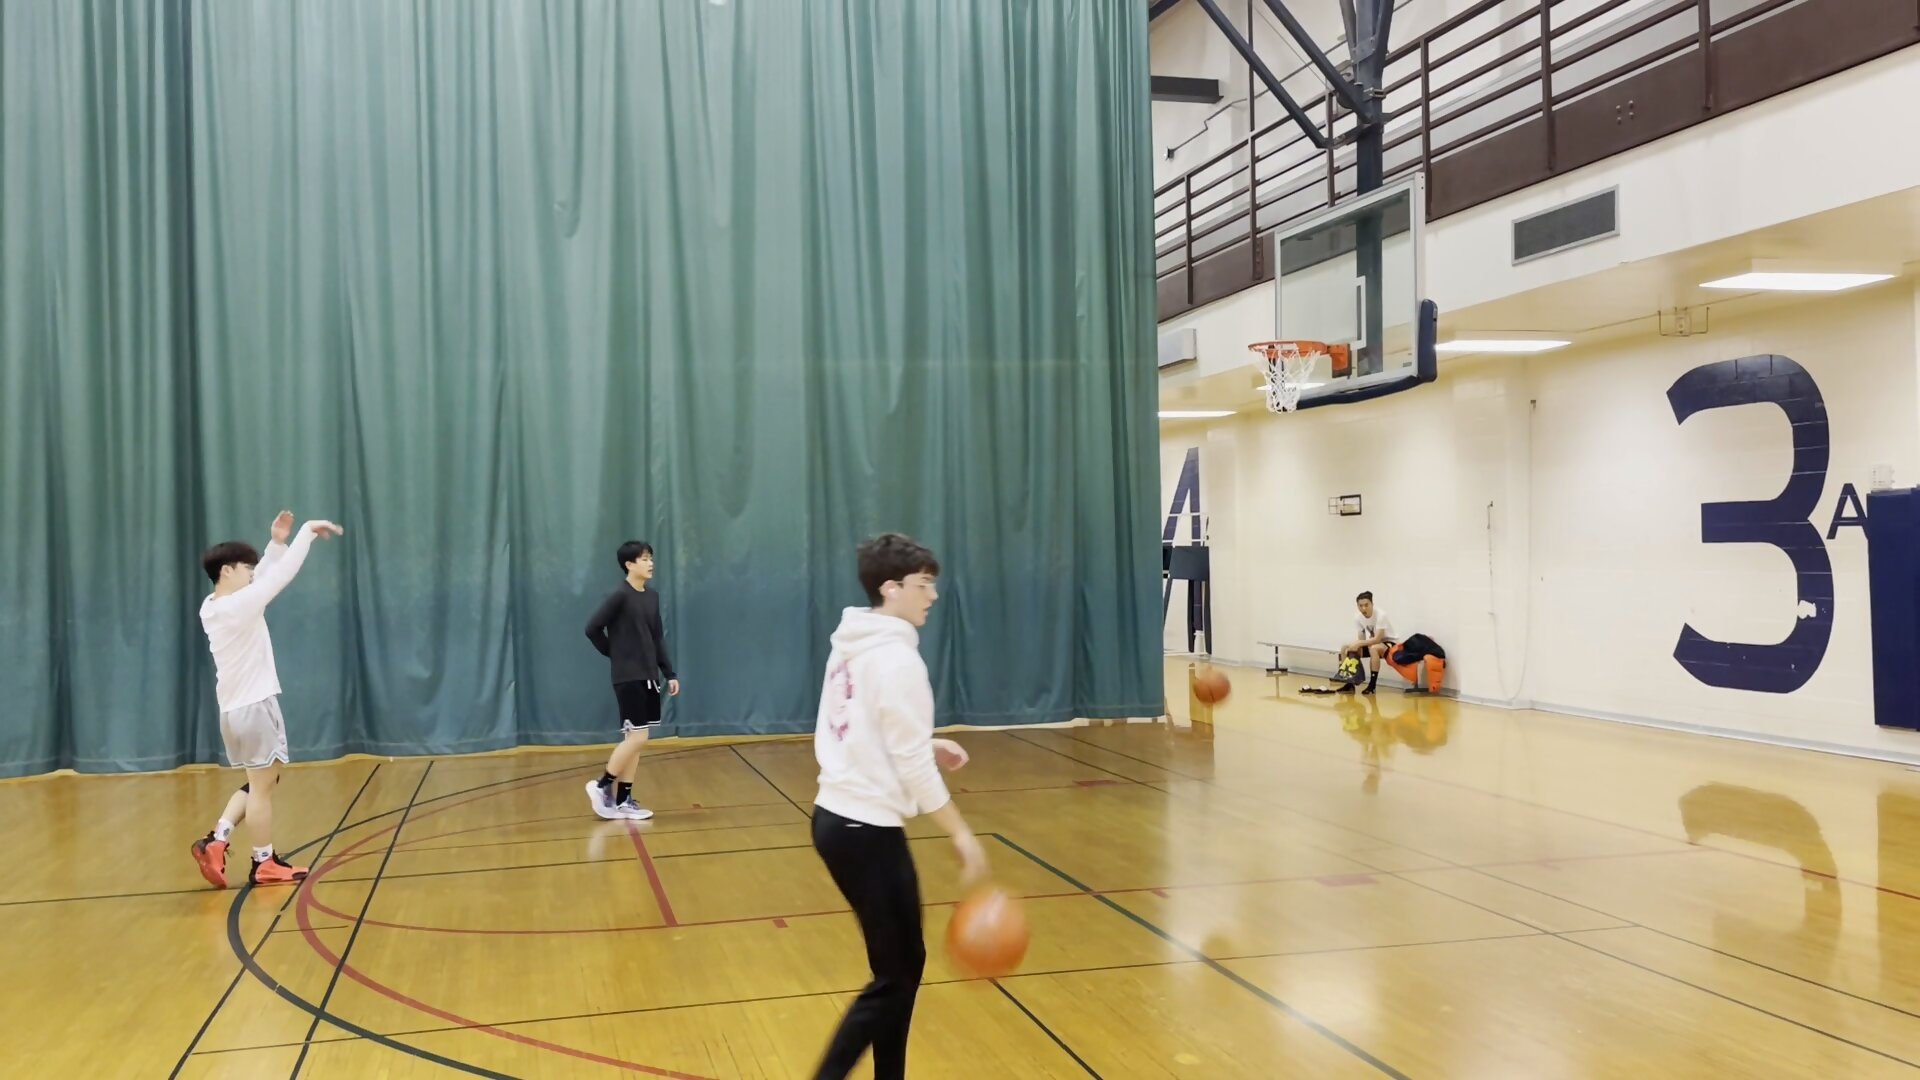ball: (943, 874, 1035, 983), (1186, 660, 1238, 716)
net: (1258, 383, 1319, 419)
player: (811, 532, 963, 1080), (172, 503, 339, 891), (584, 536, 681, 830), (1330, 587, 1400, 697)
rim: (1241, 334, 1331, 363)
